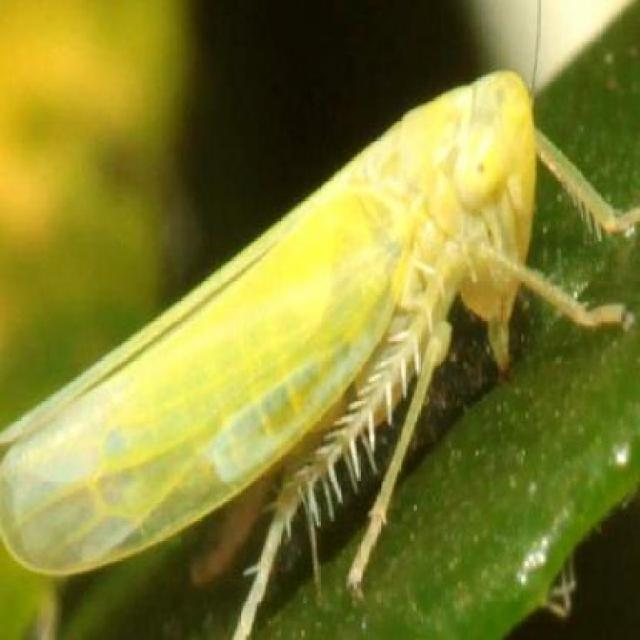green-leafhopper: (0, 68, 636, 638)
